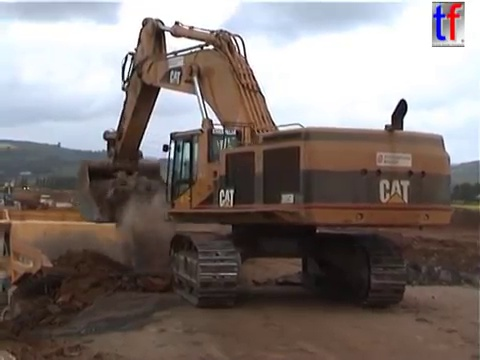excavator: (72, 14, 455, 310)
truck: (1, 206, 193, 333), (121, 215, 253, 284), (12, 190, 57, 212)
